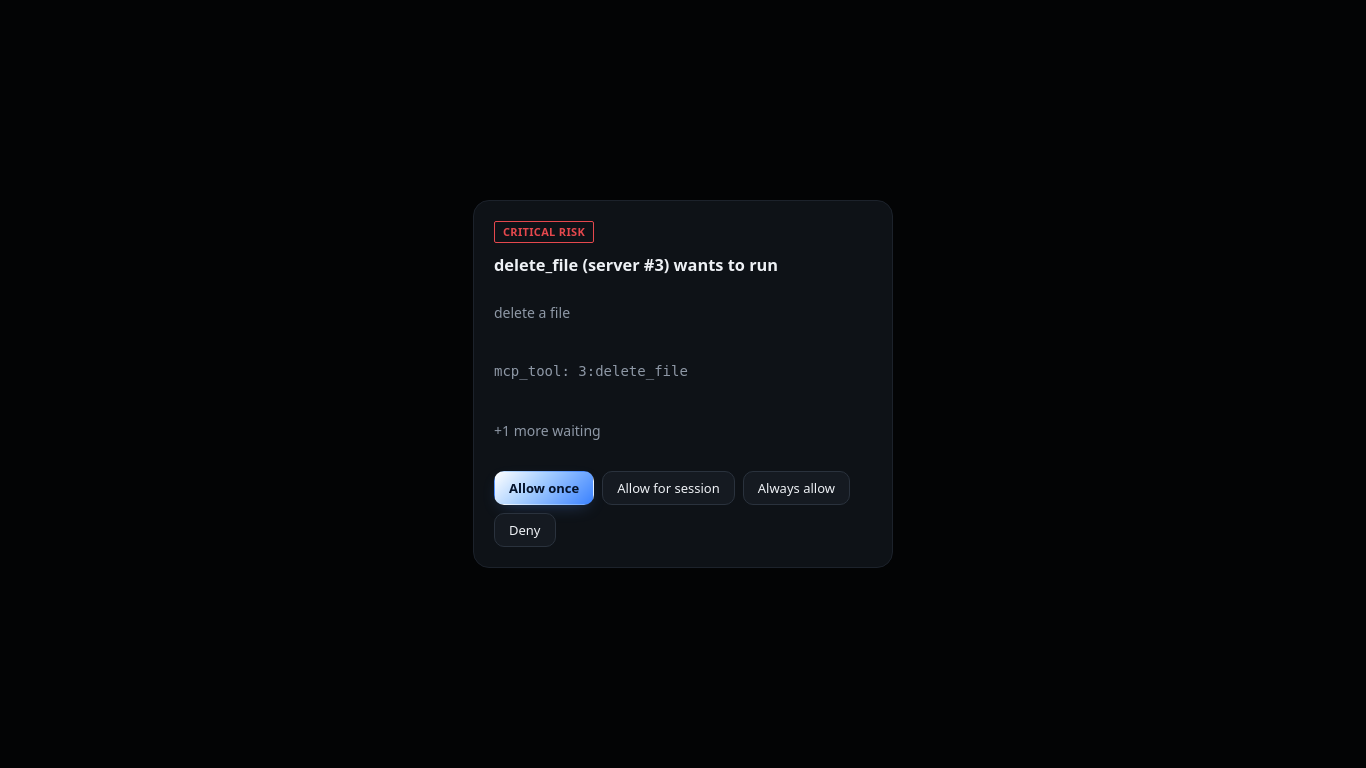
Test: PermissionPrompt › advances to the next request after the current one is resolved
The width and height of the screenshot is (1366, 768).
Expected: the text "delete a file" is shown, [494,303,570,322]
Click the button "Allow once": (544,488) [494,471,594,505]
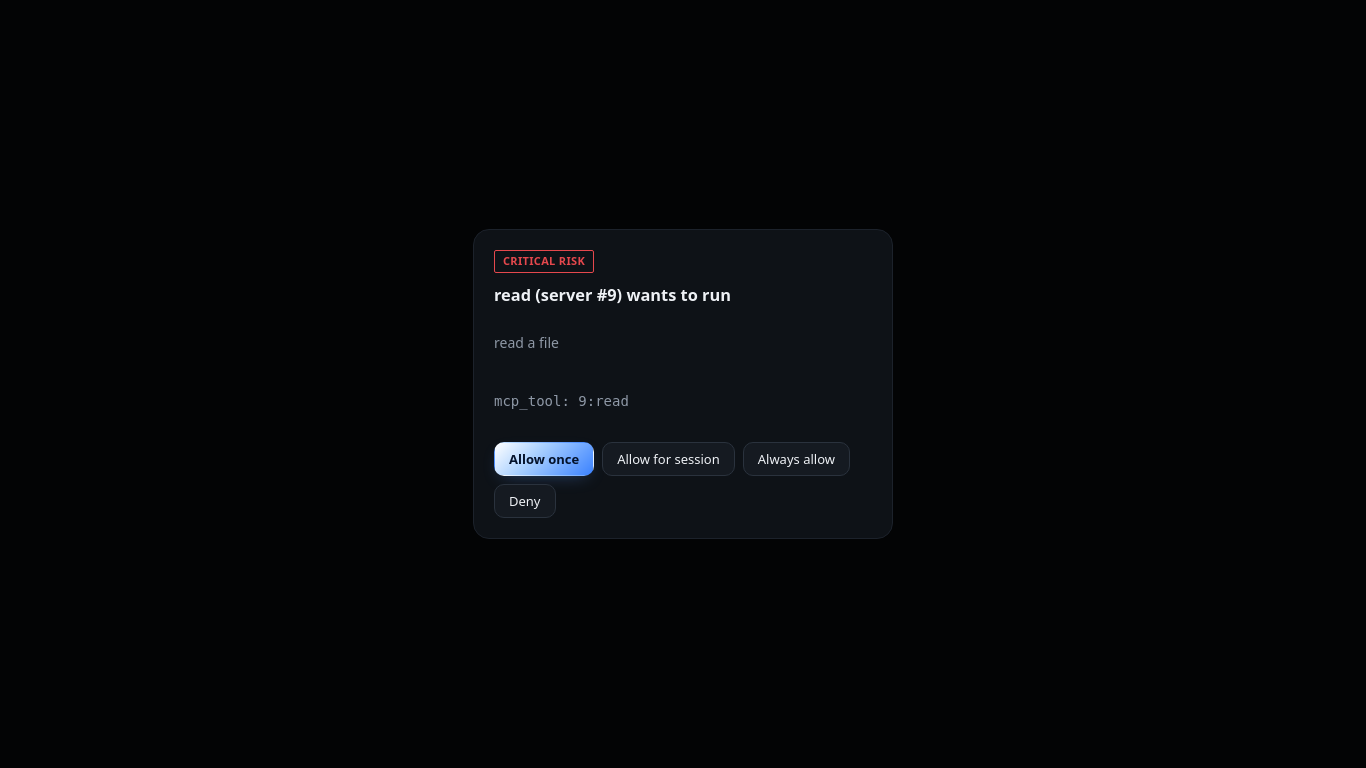
Expected: the text "read a file" is shown, [494,332,559,352]
